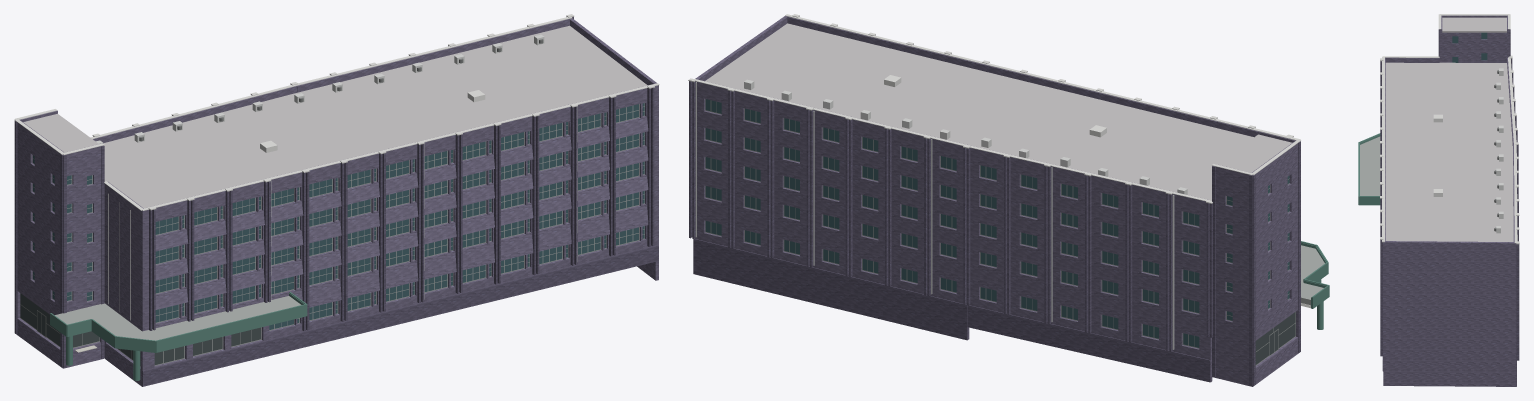
3 views of the same model, side by side, from view 1: azimuth 30°, elevation 25°; view 2: azimuth 150°, elevation 25°; view 3: azimuth 270°, elevation 25° (orthographic). The views are drawn at different scales.
Parts seen in each view (by area): view 1: jiphyeon__brick, jiphyeon__roof, jiphyeon__brick-dark, jiphyeon__glass, jiphyeon__frame, jiphyeon__cap-white, jiphyeon__canopy, jiphyeon__canopy-top, jiphyeon__shop-glass, jiphyeon__slot-glass, jiphyeon__ac; view 2: jiphyeon__brick, jiphyeon__roof, jiphyeon__brick-dark, jiphyeon__glass, jiphyeon__frame, jiphyeon__cap-white, jiphyeon__pipe, jiphyeon__ac, jiphyeon__shop-glass, jiphyeon__canopy-top, jiphyeon__canopy; view 3: jiphyeon__roof, jiphyeon__brick, jiphyeon__cap-white, jiphyeon__brick-dark, jiphyeon__canopy-top, jiphyeon__ac, jiphyeon__canopy, jiphyeon__glass.
Boxes of the visible parts, box(x1,y1,x2,y2) form: jiphyeon__brick: box(17, 18, 658, 386); jiphyeon__roof: box(23, 25, 647, 208); jiphyeon__brick-dark: box(14, 17, 658, 386); jiphyeon__glass: box(33, 104, 638, 329); jiphyeon__frame: box(20, 103, 644, 366); jiphyeon__cap-white: box(14, 14, 659, 210); jiphyeon__canopy: box(50, 292, 307, 352); jiphyeon__canopy-top: box(55, 296, 300, 340); jiphyeon__shop-glass: box(20, 293, 260, 365); jiphyeon__slot-glass: box(182, 103, 644, 322); jiphyeon__ac: box(96, 34, 544, 143); jiphyeon__brick: box(695, 16, 1298, 386); jiphyeon__roof: box(705, 23, 1292, 200); jiphyeon__brick-dark: box(689, 35, 1300, 386); jiphyeon__glass: box(705, 99, 1289, 347); jiphyeon__frame: box(705, 99, 1295, 365); jiphyeon__cap-white: box(688, 14, 1300, 203); jiphyeon__pipe: box(695, 82, 1174, 349); jiphyeon__ac: box(744, 79, 1187, 194); jiphyeon__shop-glass: box(1255, 312, 1295, 364); jiphyeon__canopy-top: box(1301, 245, 1324, 305); jiphyeon__canopy: box(1301, 241, 1329, 308); jiphyeon__roof: box(1385, 17, 1513, 241); jiphyeon__brick: box(1383, 15, 1516, 386); jiphyeon__cap-white: box(1380, 14, 1519, 244); jiphyeon__brick-dark: box(1380, 29, 1519, 386); jiphyeon__canopy-top: box(1360, 136, 1380, 195); jiphyeon__ac: box(1496, 68, 1503, 233); jiphyeon__canopy: box(1358, 133, 1380, 205); jiphyeon__glass: box(1452, 32, 1487, 62).
Size of the model in its own units: 72.12 by 27.96 by 23.79.
18 materials, 2 textured.
